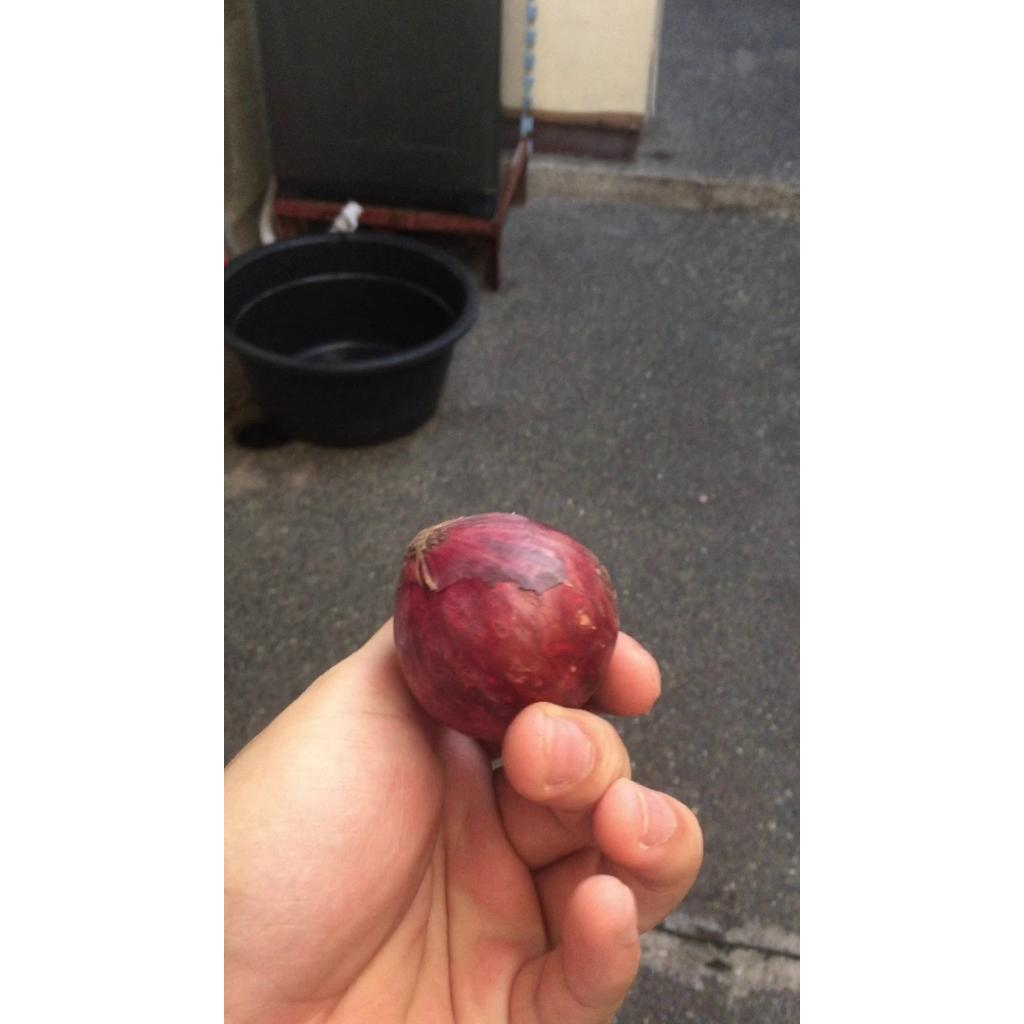Onion: (394, 513, 619, 742)
